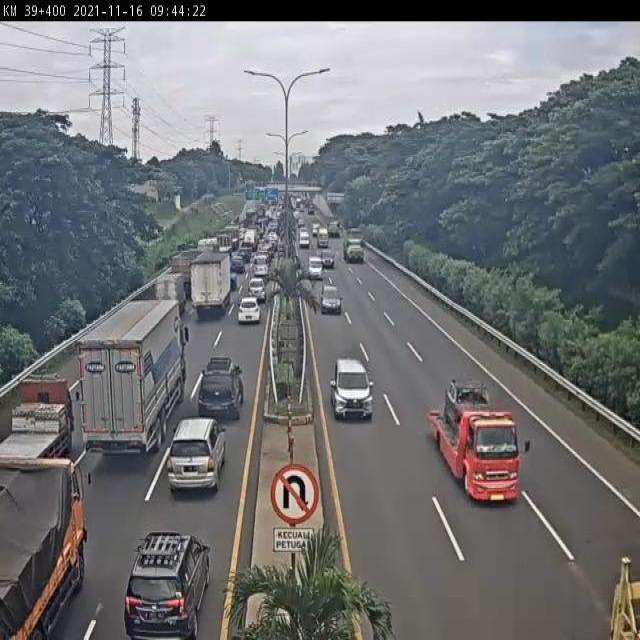car: (125, 530, 213, 640), (167, 416, 228, 492), (199, 358, 244, 426), (331, 356, 376, 420), (320, 282, 344, 318), (238, 296, 262, 327), (248, 278, 267, 302)
small truck: (429, 376, 530, 507), (154, 272, 186, 315)
truck-l-: (77, 299, 189, 457), (342, 226, 365, 262)
truck-m-: (0, 454, 91, 640), (0, 368, 81, 487), (190, 251, 232, 320)
